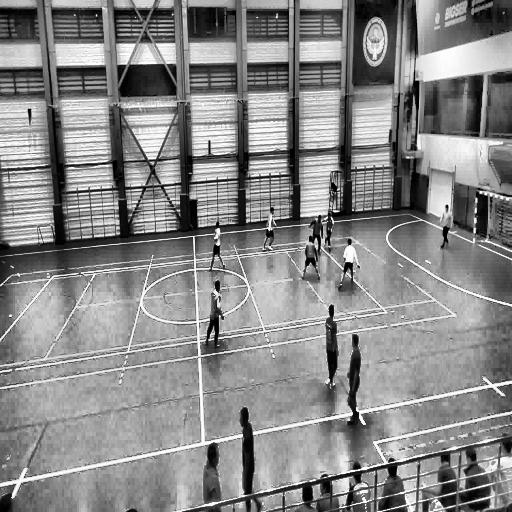player: (240, 406, 263, 509), (346, 330, 363, 427), (323, 302, 340, 392), (203, 441, 224, 509), (204, 280, 224, 350), (338, 237, 360, 291), (301, 234, 320, 281), (308, 212, 325, 260), (208, 221, 224, 271), (262, 205, 277, 253), (439, 203, 451, 248), (323, 211, 335, 253)
